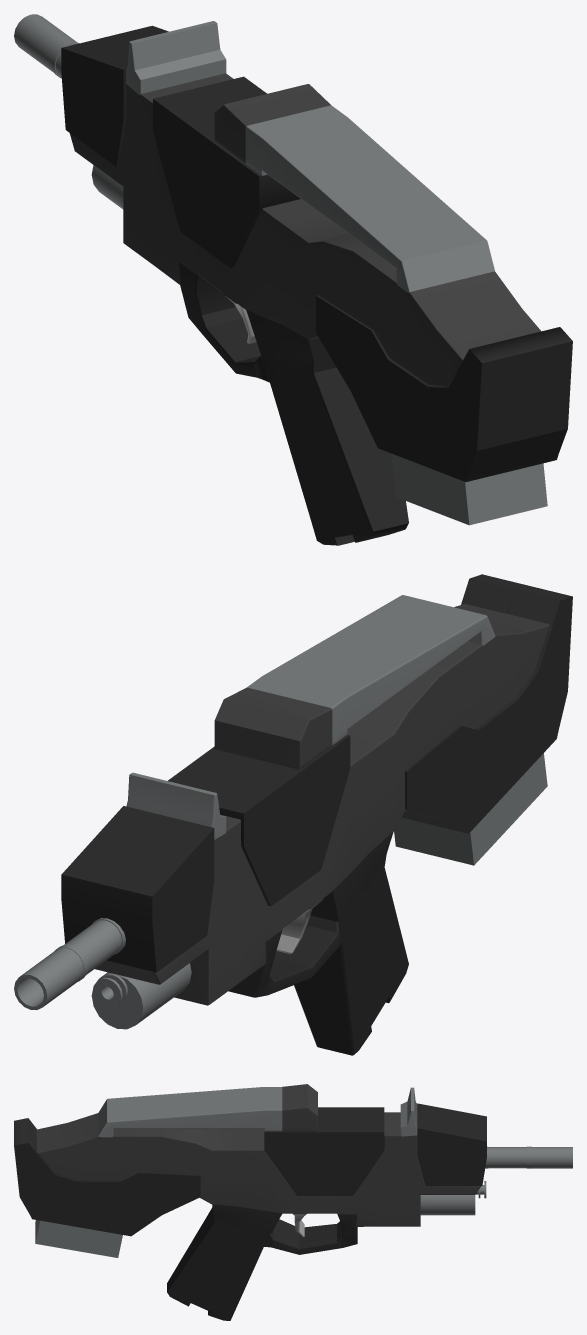
File: Gun3.fbx
3 renders of one model, top to bottom at view 1: azimuth 30°, elevation 25°; view 2: azimuth 150°, elevation 25°; view 3: azimuth 270°, elevation 25°, orthographic. The views are drawn at different scales.
Parts seen in each view (by area): view 1: Gun3; view 2: Gun3; view 3: Gun3.
Boxes of the visible parts, box(x1,y1,x2,y2) form: Gun3: box(14, 14, 572, 545); Gun3: box(14, 574, 572, 1055); Gun3: box(14, 1084, 572, 1320).
Size of the model in its own units: 0.6 by 2.47 by 5.68.
